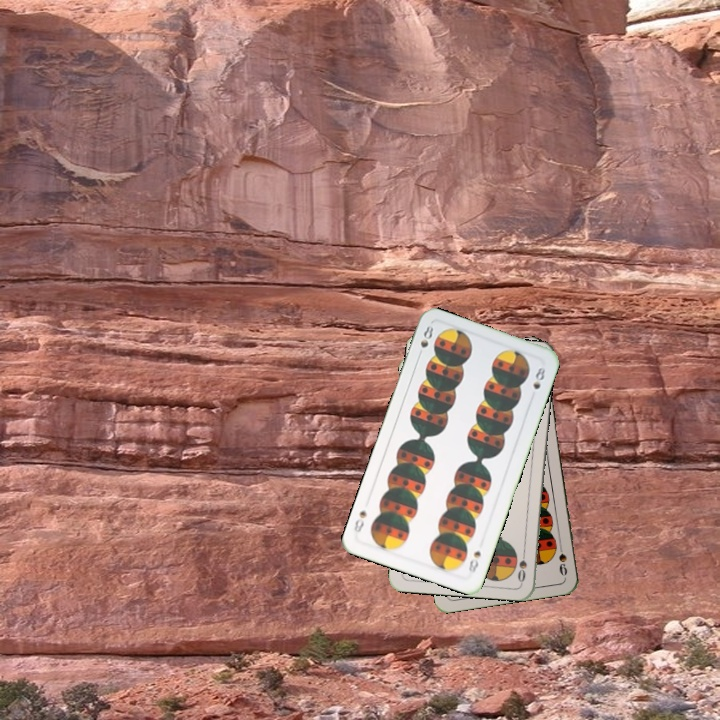S8: (464, 547, 484, 576), (416, 322, 436, 351)
S9: (555, 538, 570, 578)
SO: (514, 544, 529, 585)
